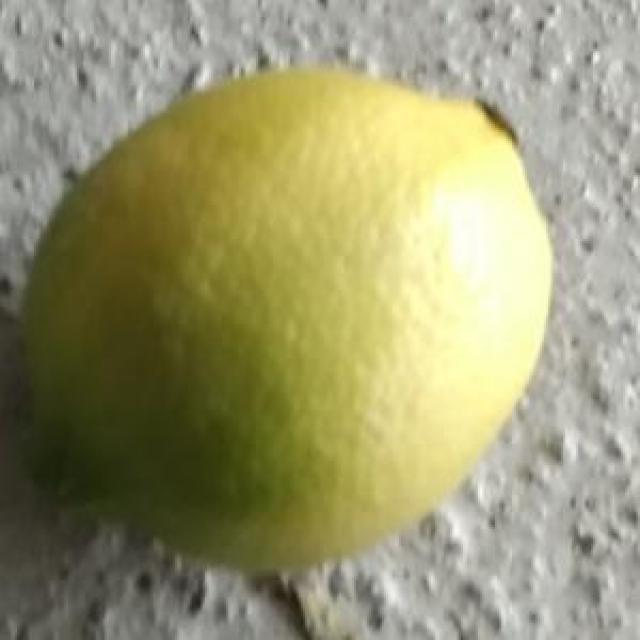lemon: (15, 70, 553, 568)
